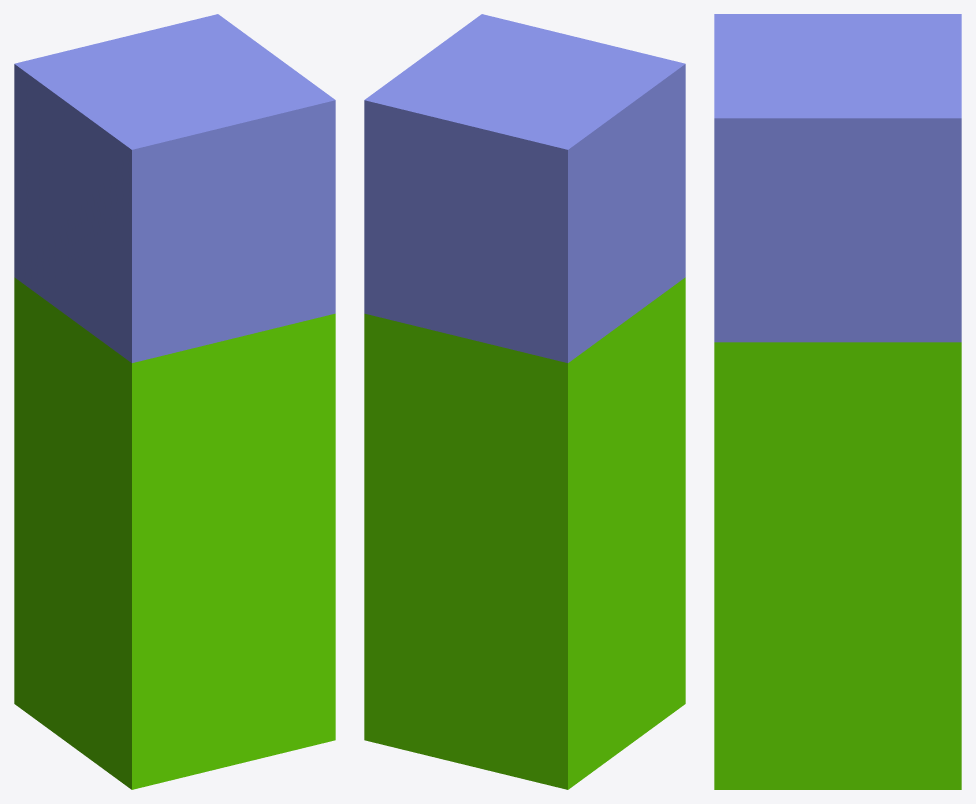
Rendered from (5) Tulip Flowers (Stage 2).obj.
The picture shows the model from 3 angles, left to right: view 1: azimuth 30°, elevation 25°; view 2: azimuth 150°, elevation 25°; view 3: azimuth 270°, elevation 25°; orthographic projection. The views are drawn at different scales.
Bounding box in the file's own units: 0.1 × 0.3 × 0.1.
1 material, 1 textured.
